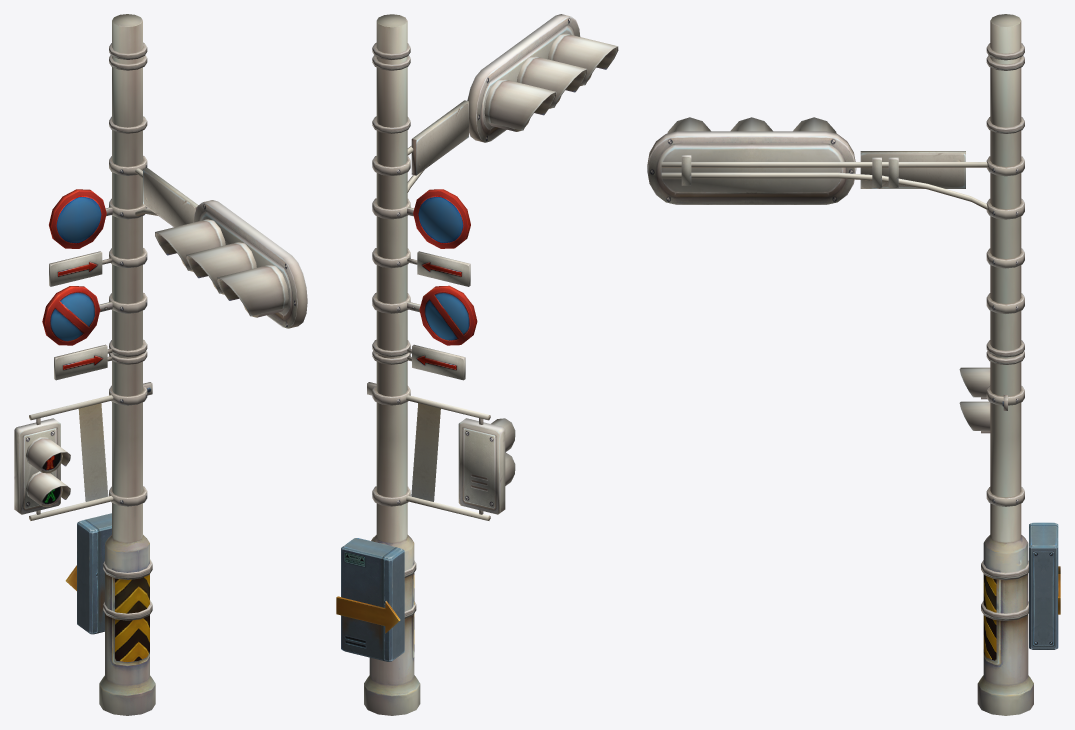
The model's file is dj_ludeng.FBX.
3 views of the same model, side by side, from view 1: azimuth 30°, elevation 25°; view 2: azimuth 150°, elevation 25°; view 3: azimuth 270°, elevation 25° (orthographic).
Visible parts, largest first — view 1: dj_dianxiangan, dj_dianxiangan_honglvdeng1, dj_dianxiangan_honglvdeng2, dj_dianxiangan_lupai2, dj_dianxiangan_lupai1, dj_dianxiangan_dianxiang; view 2: dj_dianxiangan, dj_dianxiangan_honglvdeng1, dj_dianxiangan_honglvdeng2, dj_dianxiangan_dianxiang, dj_dianxiangan_lupai2, dj_dianxiangan_lupai1; view 3: dj_dianxiangan, dj_dianxiangan_honglvdeng1, dj_dianxiangan_dianxiang, dj_dianxiangan_honglvdeng2.
Boxes of the visible parts, box(x1,y1,x2,y2) form: dj_dianxiangan: box(99, 14, 155, 715); dj_dianxiangan_honglvdeng1: box(135, 168, 307, 328); dj_dianxiangan_honglvdeng2: box(14, 395, 113, 520); dj_dianxiangan_lupai2: box(42, 286, 112, 380); dj_dianxiangan_lupai1: box(49, 189, 112, 286); dj_dianxiangan_dianxiang: box(65, 513, 111, 634); dj_dianxiangan: box(364, 14, 420, 715); dj_dianxiangan_honglvdeng1: box(407, 14, 618, 192); dj_dianxiangan_honglvdeng2: box(406, 395, 515, 520); dj_dianxiangan_dianxiang: box(336, 538, 404, 661); dj_dianxiangan_lupai2: box(407, 285, 477, 380); dj_dianxiangan_lupai1: box(407, 189, 470, 286); dj_dianxiangan: box(977, 14, 1033, 715); dj_dianxiangan_honglvdeng1: box(647, 117, 987, 209); dj_dianxiangan_dianxiang: box(1029, 522, 1060, 649); dj_dianxiangan_honglvdeng2: box(959, 367, 990, 433).
Bounding box in the file's own units: 436 × 2053 × 1126.
